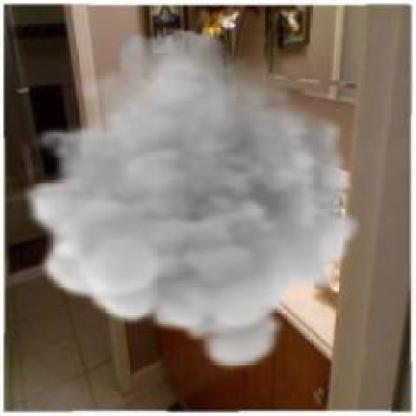Smoke: (22, 27, 360, 373)
